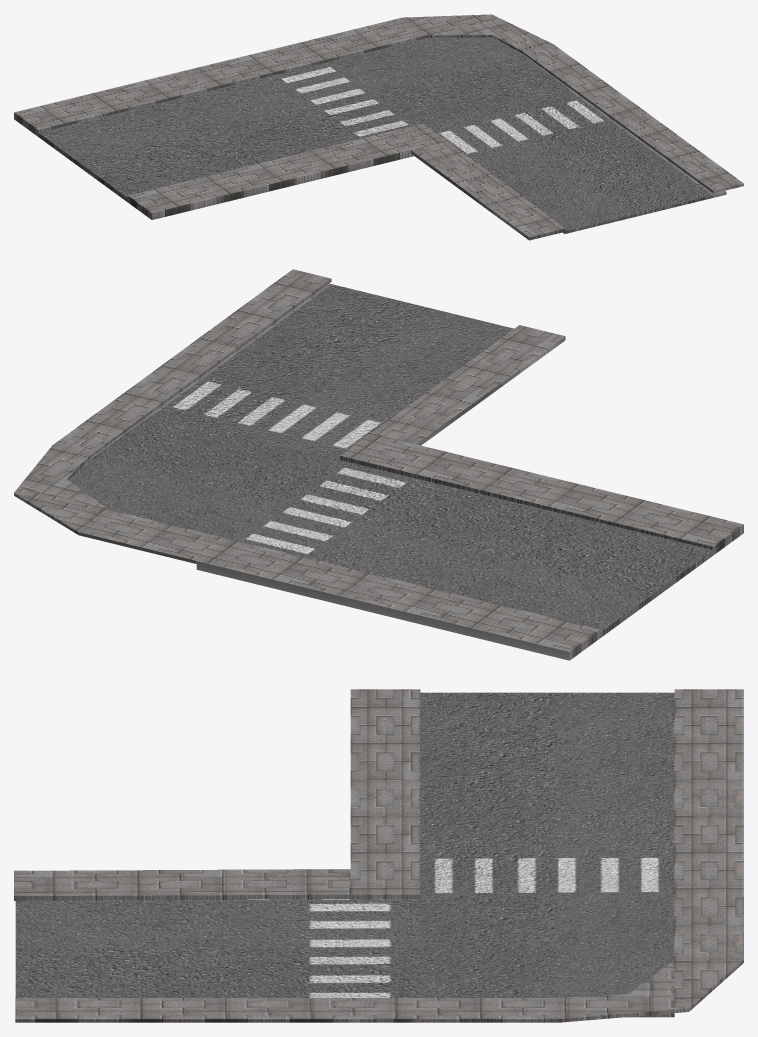
Rendered from CURVAO.fbx.
The picture shows the model from 3 angles, top to bottom: view 1: azimuth 30°, elevation 25°; view 2: azimuth 150°, elevation 25°; view 3: azimuth 270°, elevation 25°; orthographic projection. The views are drawn at different scales.
Visible parts, largest first — view 1: pCube2; view 2: pCube2; view 3: pCube2.
Part boxes in pixels (left/top/right/bottom): pCube2: left=14, top=14, right=743, bottom=240; pCube2: left=14, top=269, right=743, bottom=660; pCube2: left=14, top=689, right=743, bottom=1022.
Bounding box in the file's own units: 76.91 × 1.07 × 71.88.
Materials: 1 (1 with a texture image).
